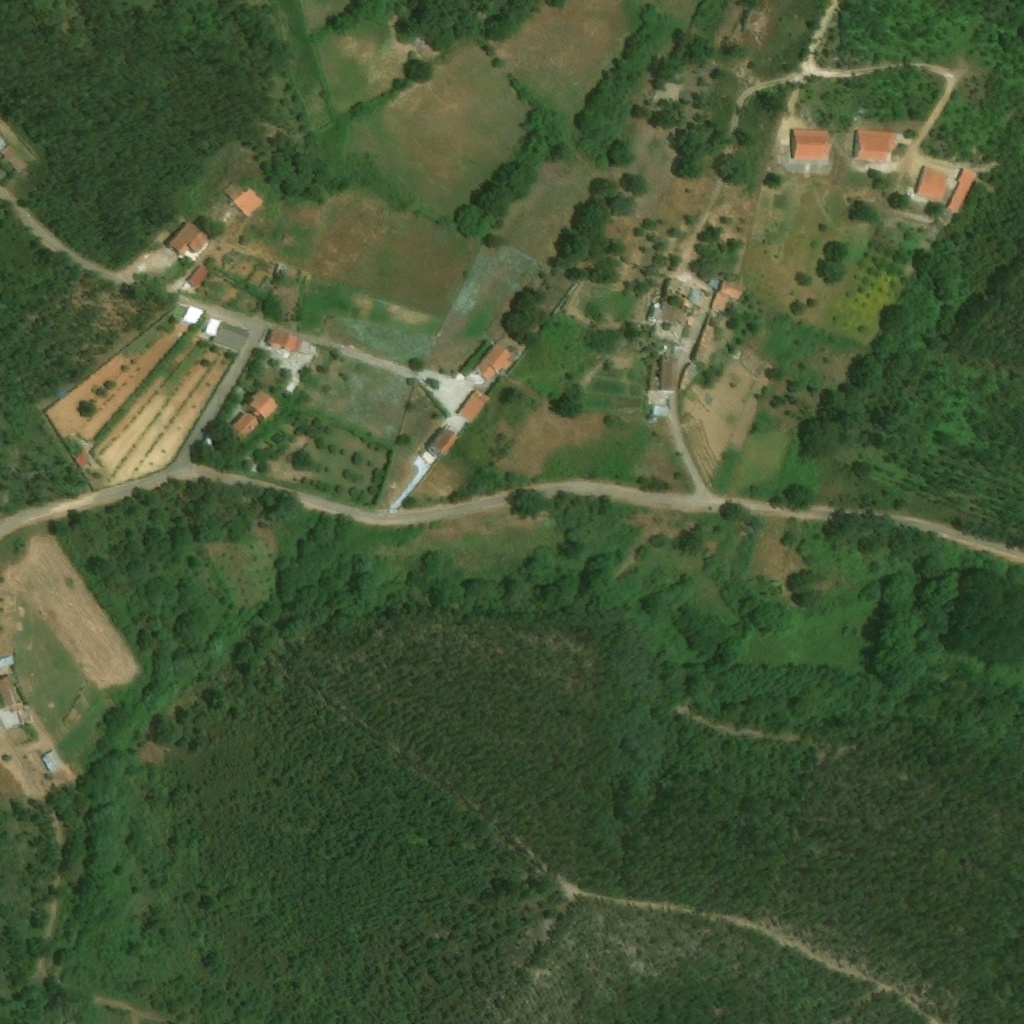0 no-damage: (162, 214, 218, 257), (644, 276, 691, 323), (0, 674, 34, 730), (472, 339, 513, 383), (201, 316, 250, 352), (220, 180, 263, 217), (852, 130, 898, 163), (423, 420, 461, 459), (912, 165, 949, 205), (238, 387, 283, 419), (789, 128, 833, 160), (454, 387, 490, 425), (263, 327, 310, 355), (711, 277, 745, 313), (0, 132, 29, 174), (646, 354, 679, 390), (272, 285, 300, 321), (693, 324, 717, 364), (738, 8, 771, 36), (229, 410, 259, 439), (945, 186, 968, 215), (40, 748, 63, 772), (685, 282, 706, 308), (273, 262, 300, 282), (680, 362, 699, 390), (181, 306, 202, 325), (74, 449, 90, 468), (681, 309, 695, 326), (0, 653, 15, 668), (282, 233, 292, 243)
4 un-classified: (418, 450, 436, 467), (416, 31, 429, 42), (454, 373, 464, 380)
